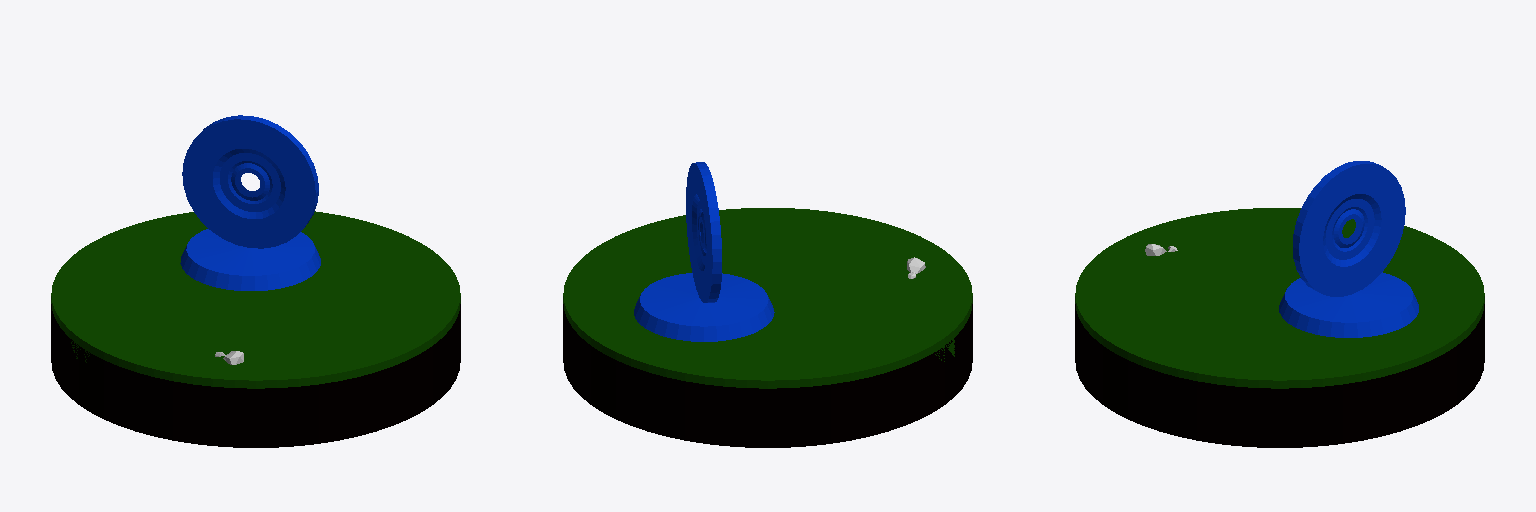
File: bublik.obj
3 renders of one model, left to right at view 1: azimuth 30°, elevation 25°; view 2: azimuth 150°, elevation 25°; view 3: azimuth 270°, elevation 25°, orthographic.
Visible parts, largest first — view 1: Cube.000, Cube.006_Cube.003, Cylinder, Circle; view 2: Cube.000, Cube.006_Cube.003, Circle, Cylinder; view 3: Cube.000, Cube.006_Cube.003, Cylinder, Circle.
Part boxes in pixels (bbox=[...]): Cube.000: bbox=[51, 211, 460, 388]; Cube.006_Cube.003: bbox=[51, 304, 460, 447]; Cylinder: bbox=[182, 115, 318, 248]; Circle: bbox=[180, 229, 320, 290]; Cube.000: bbox=[563, 208, 972, 388]; Cube.006_Cube.003: bbox=[563, 304, 972, 447]; Circle: bbox=[634, 273, 774, 341]; Cylinder: bbox=[686, 162, 721, 302]; Cube.000: bbox=[1075, 208, 1484, 388]; Cube.006_Cube.003: bbox=[1075, 304, 1484, 447]; Cylinder: bbox=[1293, 161, 1405, 296]; Circle: bbox=[1279, 272, 1418, 337].
Size of the model in its own units: 3.08 by 1.75 by 3.08.